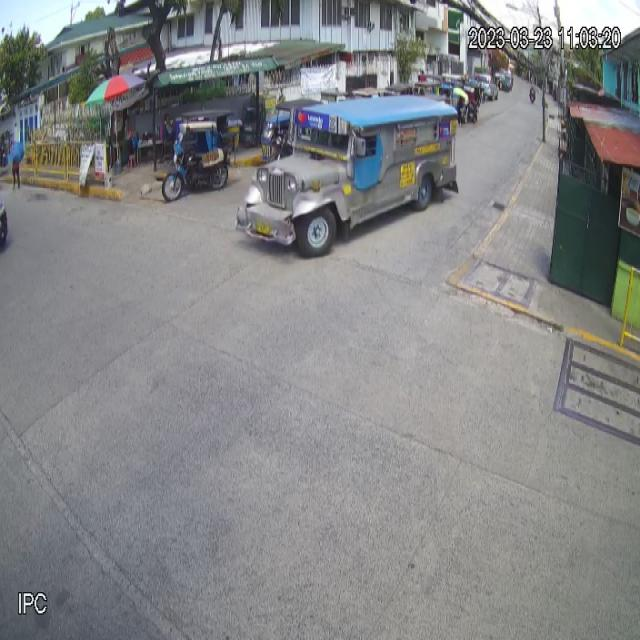Jeep: (235, 93, 459, 260)
